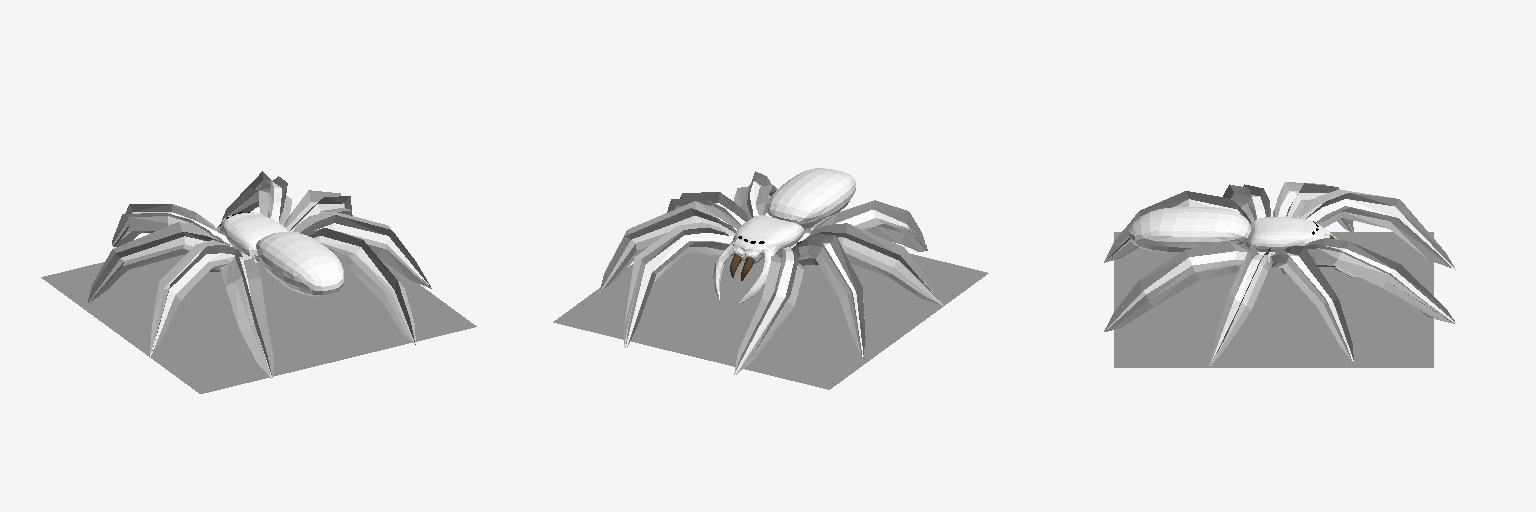
The model's file is Spider.obj.
3 renders of one model, left to right at view 1: azimuth 30°, elevation 25°; view 2: azimuth 150°, elevation 25°; view 3: azimuth 270°, elevation 25°, orthographic.
Parts seen in each view (by area): view 1: Cube, Spider, Spider.005; view 2: Cube, Spider, Spider.005; view 3: Cube, Spider, Spider.005.
Part boxes in pixels (x1,y1,x2,y2): Cube: (41, 255, 476, 393); Spider: (88, 171, 430, 378); Spider.005: (87, 180, 432, 378); Cube: (553, 229, 988, 389); Spider: (600, 171, 942, 374); Spider.005: (599, 168, 943, 374); Cube: (1114, 232, 1433, 367); Spider: (1104, 182, 1454, 363); Spider.005: (1104, 191, 1455, 365).
Bounding box in the file's own units: 184 × 54.56 × 199.